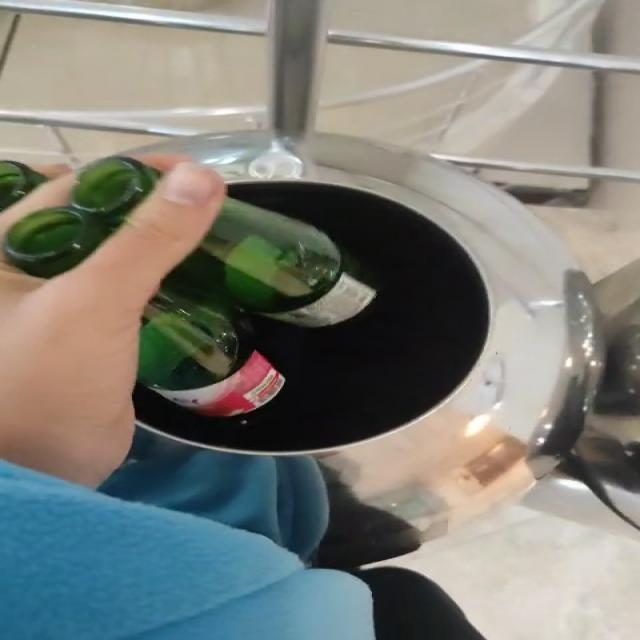glass: (139, 198, 376, 416), (4, 156, 156, 277)
